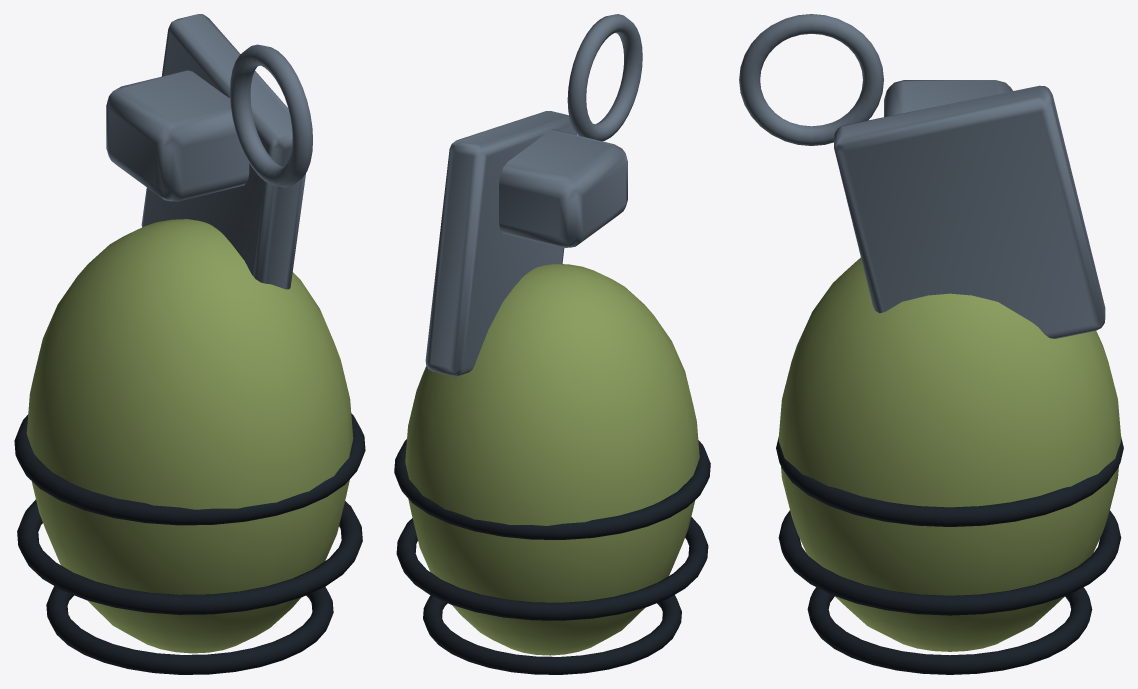
Rendered from grenade.glb.
The picture shows the model from 3 angles, left to right: view 1: azimuth 30°, elevation 25°; view 2: azimuth 150°, elevation 25°; view 3: azimuth 270°, elevation 25°; orthographic projection. The views are drawn at different scales.
Parts seen in each view (by area): view 1: rounded grenade body, top cap, cartoon body ribs; view 2: rounded grenade body, top cap, cartoon body ribs; view 3: rounded grenade body, top cap, cartoon body ribs.
Boxes of the visible parts, x1=… form: rounded grenade body: x1=26, y1=219, x2=353, y2=653; top cap: x1=106, y1=14, x2=312, y2=289; cartoon body ribs: x1=14, y1=413, x2=365, y2=674; rounded grenade body: x1=405, y1=263, x2=699, y2=655; top cap: x1=425, y1=14, x2=642, y2=376; cartoon body ribs: x1=394, y1=439, x2=710, y2=674; rounded grenade body: x1=778, y1=257, x2=1121, y2=651; top cap: x1=739, y1=14, x2=1105, y2=338; cartoon body ribs: x1=776, y1=436, x2=1123, y2=674.
Size of the model in its own units: 0.1848 by 0.371 by 0.2044.
